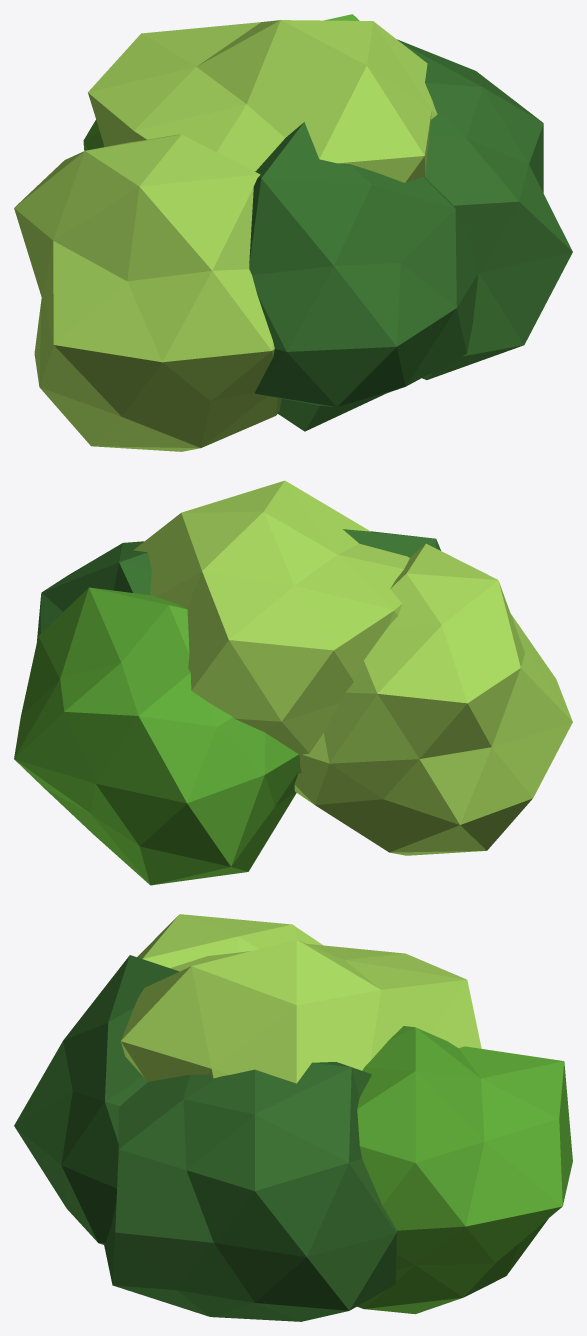
Rendered from bush_2.glb.
3 views of the same model, one above another, from view 1: azimuth 30°, elevation 25°; view 2: azimuth 150°, elevation 25°; view 3: azimuth 270°, elevation 25° (orthographic). The views are drawn at different scales.
Visible parts, largest first — view 1: bush_2; view 2: bush_2; view 3: bush_2.
Part boxes in pixels (bbox=[...]): bush_2: bbox=[14, 14, 572, 451]; bush_2: bbox=[14, 480, 572, 885]; bush_2: bbox=[14, 914, 572, 1321].
Size of what is drawn, in the model's own units: 2 by 1.34 by 1.88.
